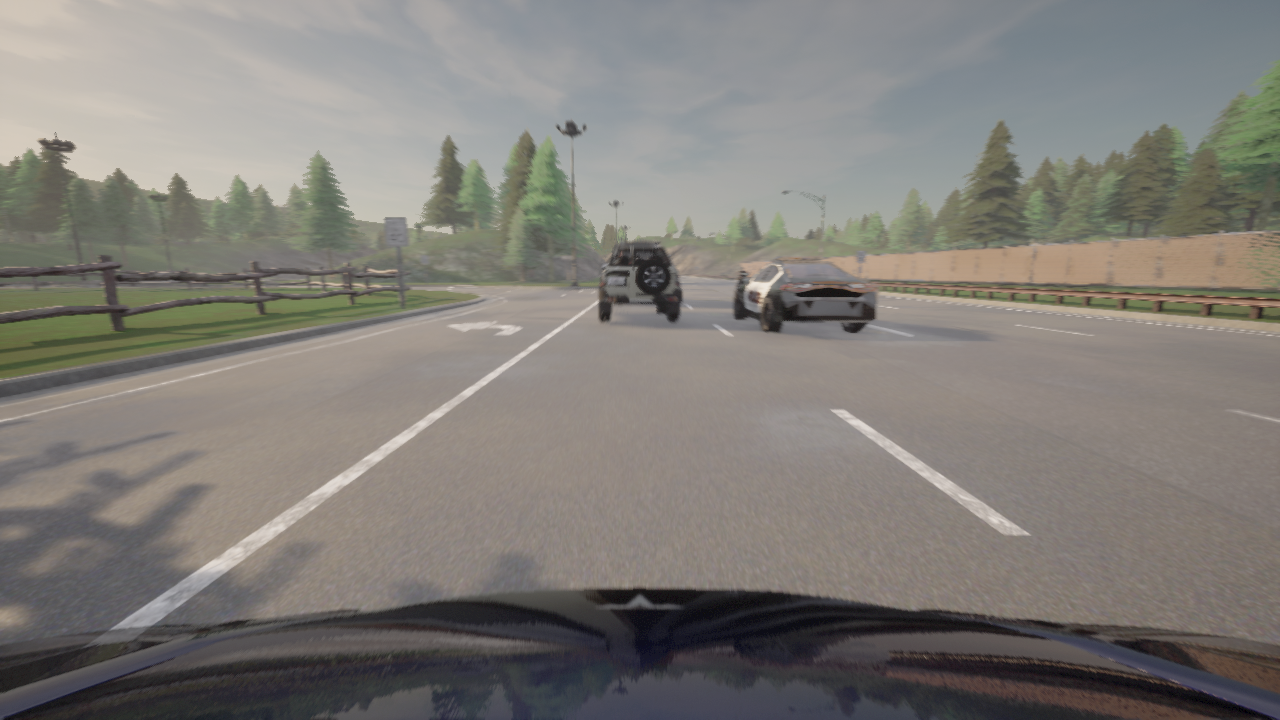cyclist: (0, 588, 1279, 719), (734, 257, 878, 332), (599, 242, 681, 321), (737, 273, 742, 288)
